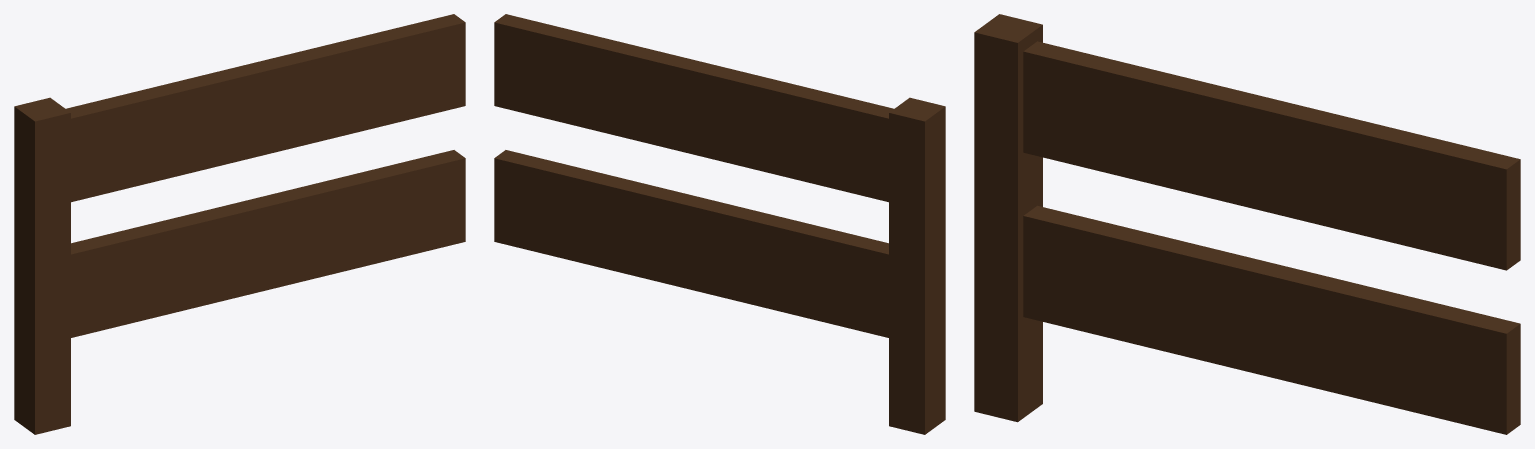
The model's file is Fence01.fbx.
3 renders of one model, left to right at view 1: azimuth 30°, elevation 25°; view 2: azimuth 150°, elevation 25°; view 3: azimuth 330°, elevation 25°, orthographic. The views are drawn at different scales.
Parts seen in each view (by area): view 1: Cube; view 2: Cube; view 3: Cube.
Part boxes in pixels (box(x1,y1,x2,y2)): Cube: box(14, 14, 465, 434); Cube: box(494, 14, 945, 434); Cube: box(974, 14, 1520, 434).
Bounding box in the file's own units: 436 × 300 × 36.
